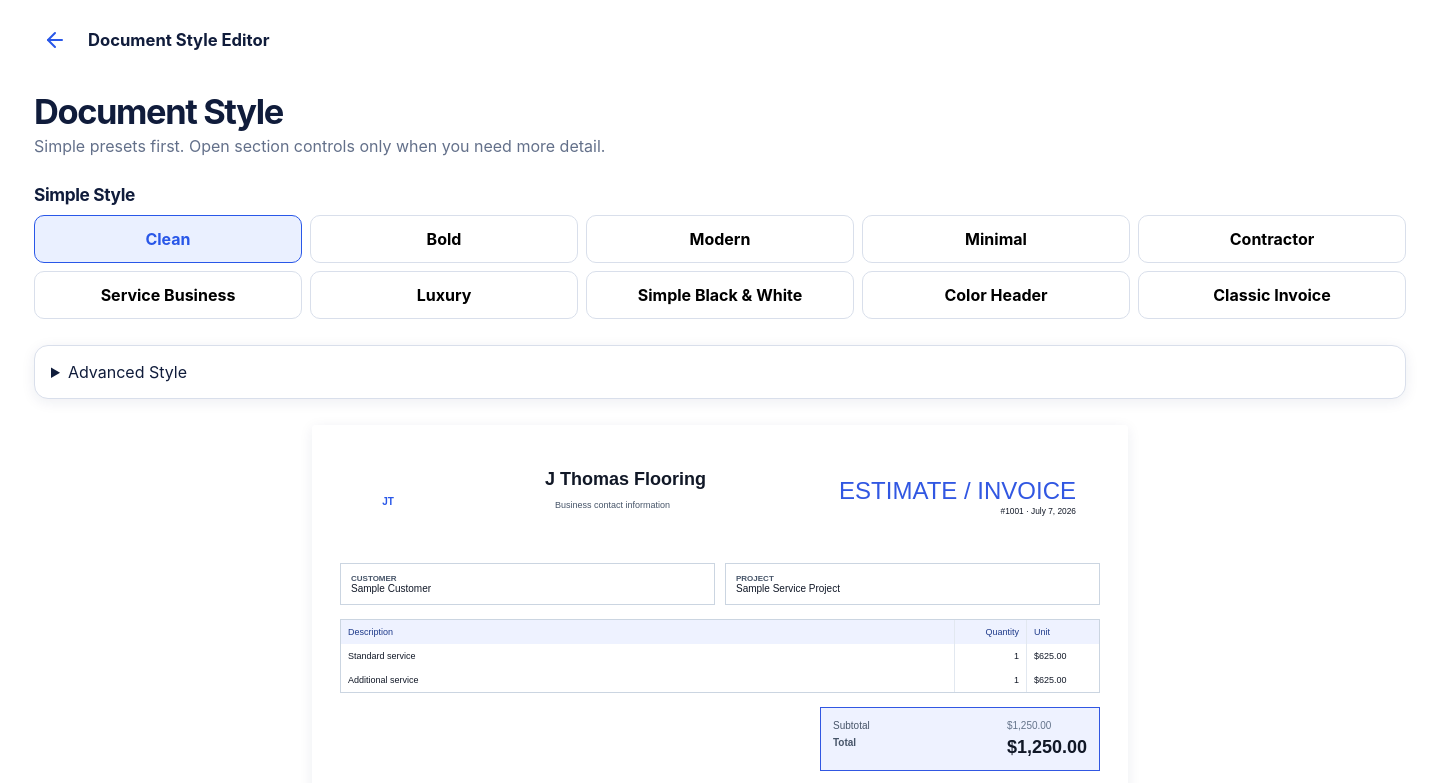
Test: Document Style Editor › keeps internal columns out of customer and PDF views
Click the heading "Advanced Style". click: {"x": 127, "y": 372}
box: [68, 362, 187, 382]
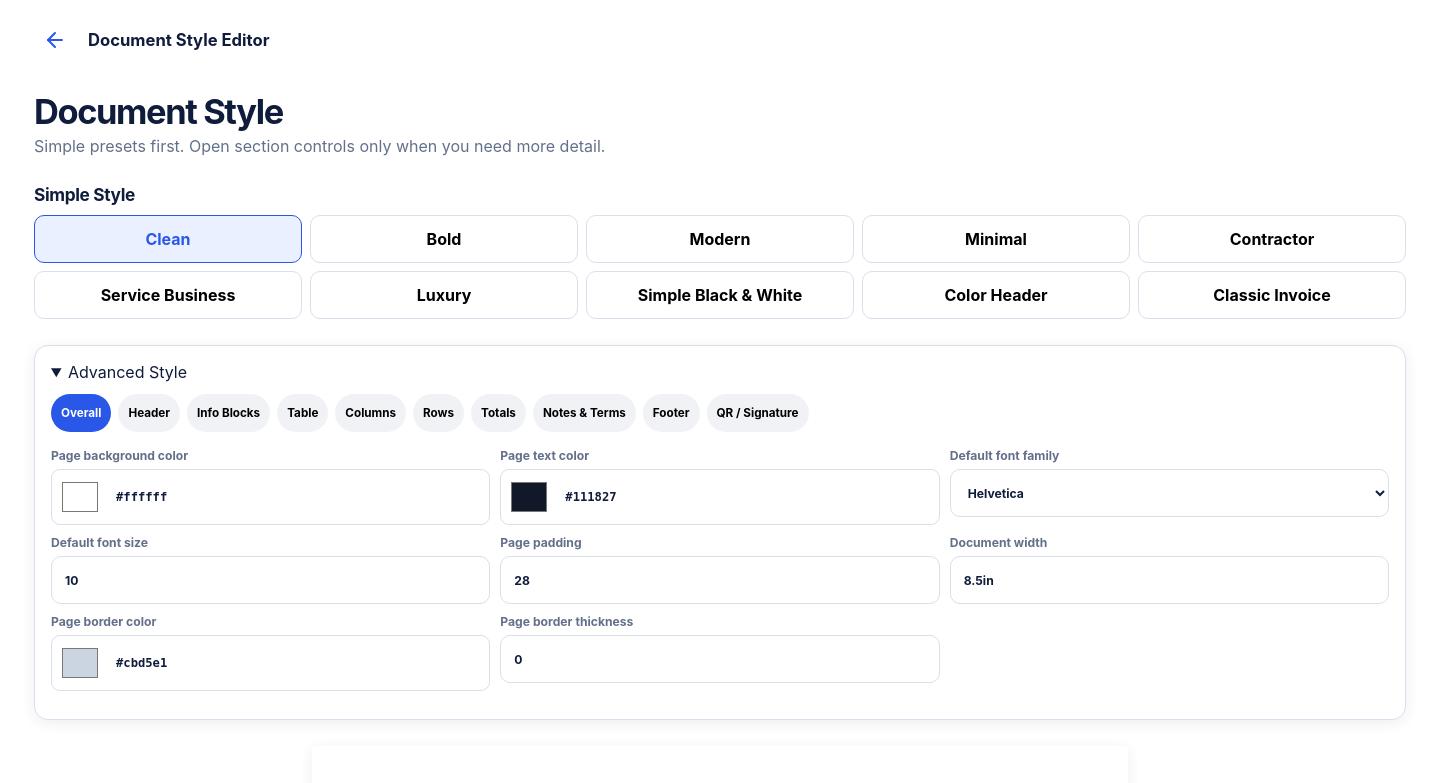
Click the button "Columns". click: {"x": 371, "y": 413}
box: [335, 394, 406, 432]
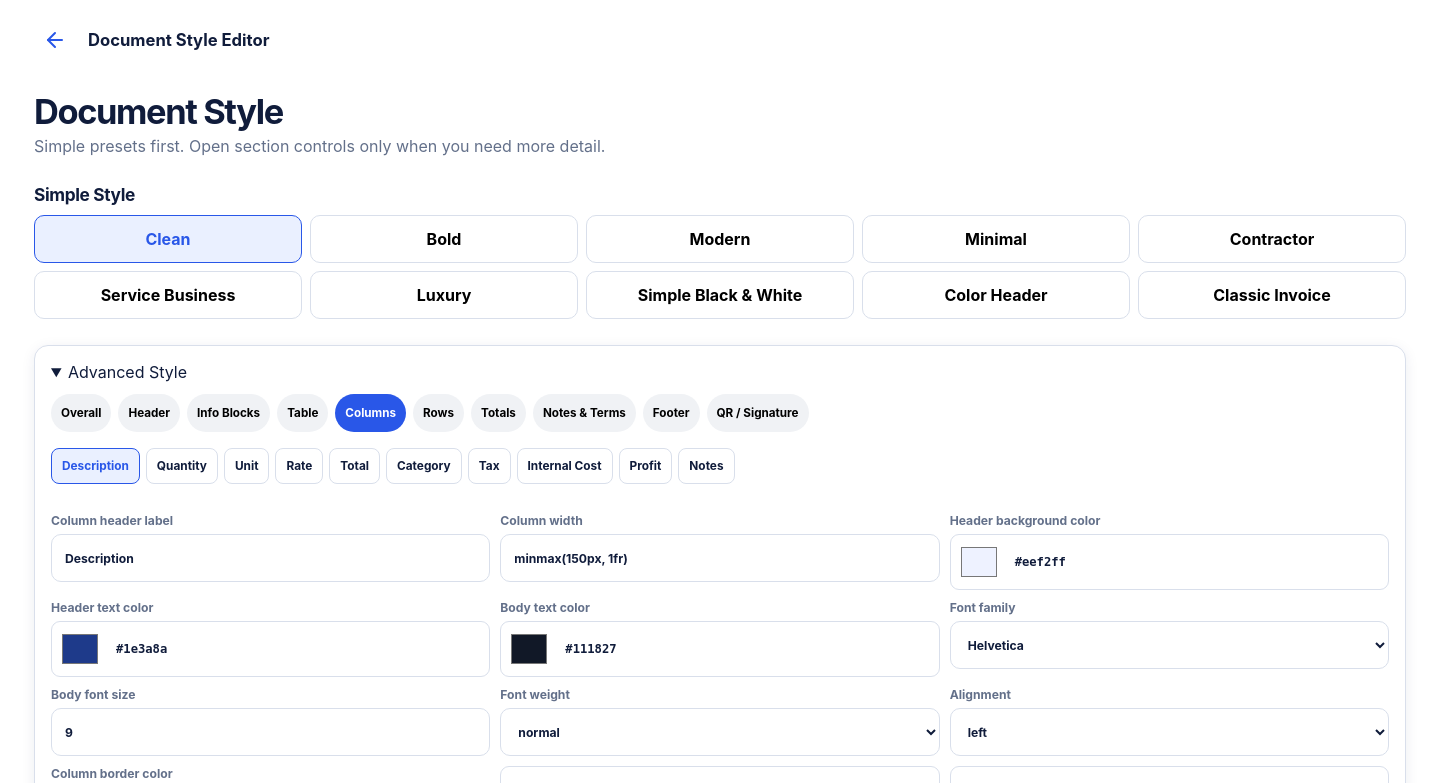
Click the button "Internal Cost". click: {"x": 565, "y": 466}
box: [516, 448, 613, 484]
(page scrolled)
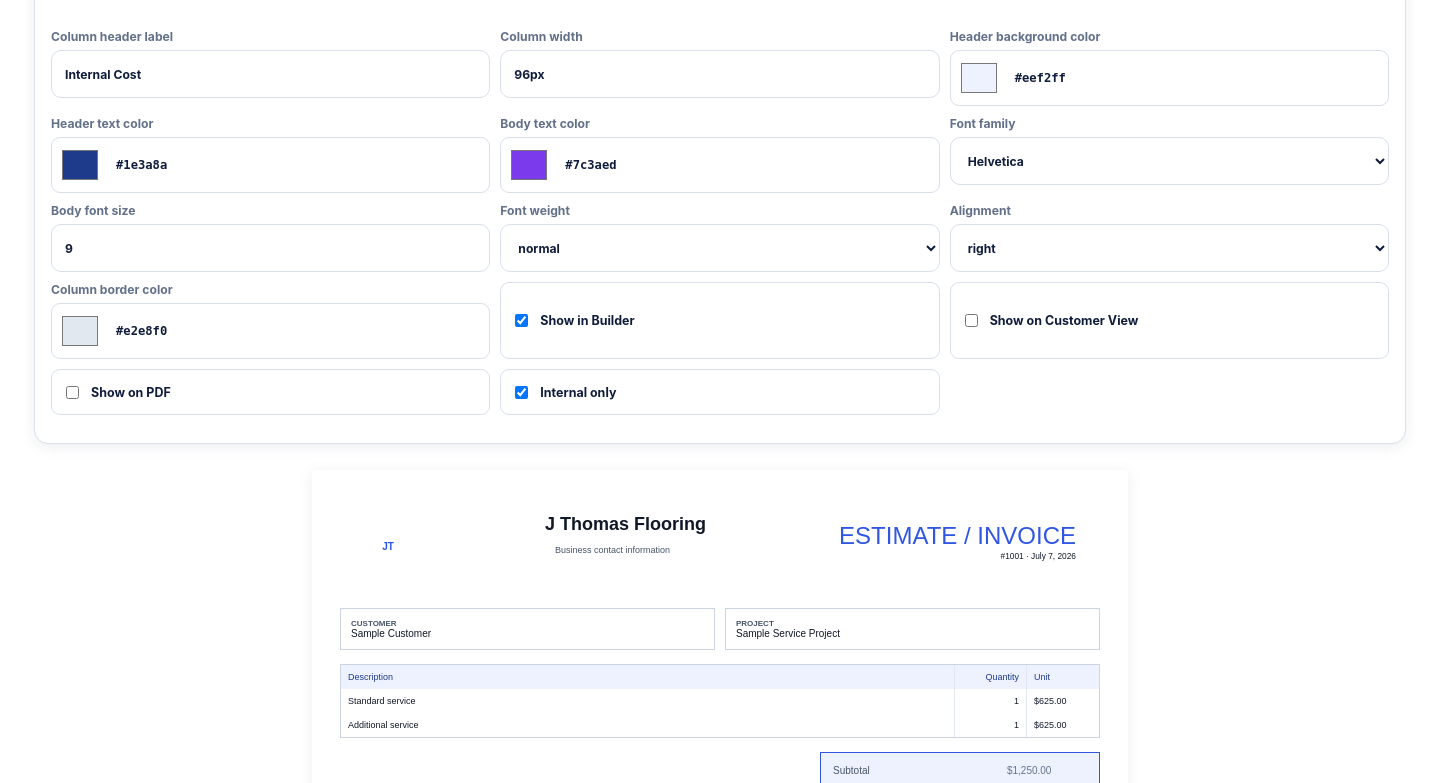
expect the checkbox labelled "Internal only" is checked: met, box [515, 386, 528, 398]
expect the checkbox labelled "Show on Customer View" is not checked: met, box [965, 314, 978, 327]
expect the checkbox labelled "Show on PDF" is not checked: met, box [66, 386, 79, 398]
